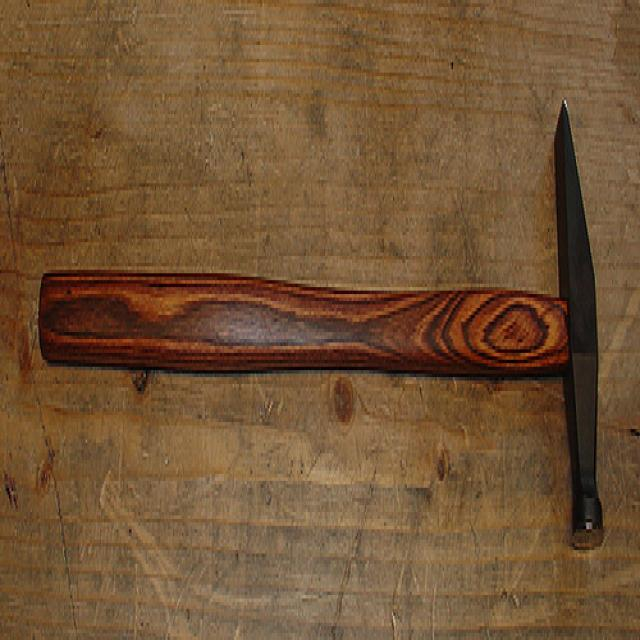hammer: (25, 63, 617, 568)
